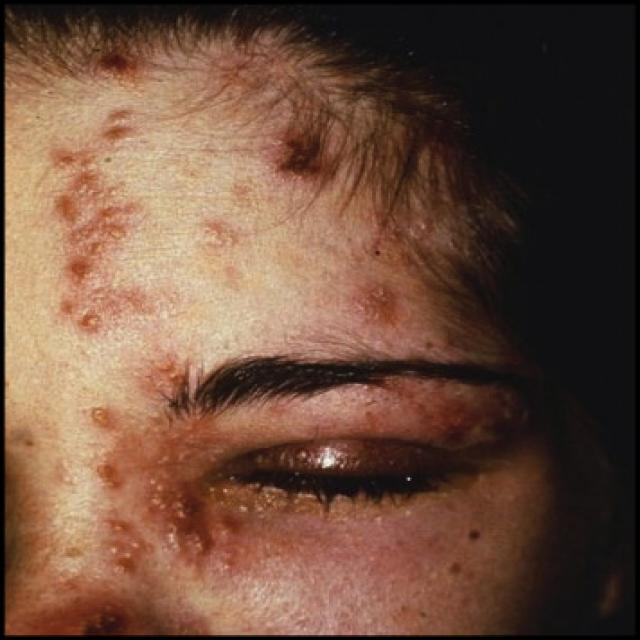herpes zoster: (32, 100, 150, 340), (80, 456, 213, 576), (75, 392, 128, 440)
